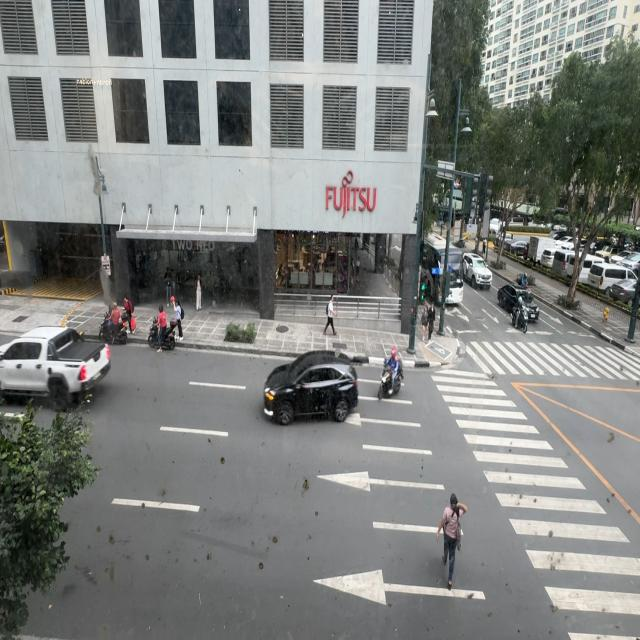jaywalking: (434, 491, 467, 589)
pedestrain: (322, 294, 337, 338)
waiting: (426, 302, 436, 341), (421, 304, 429, 342)
